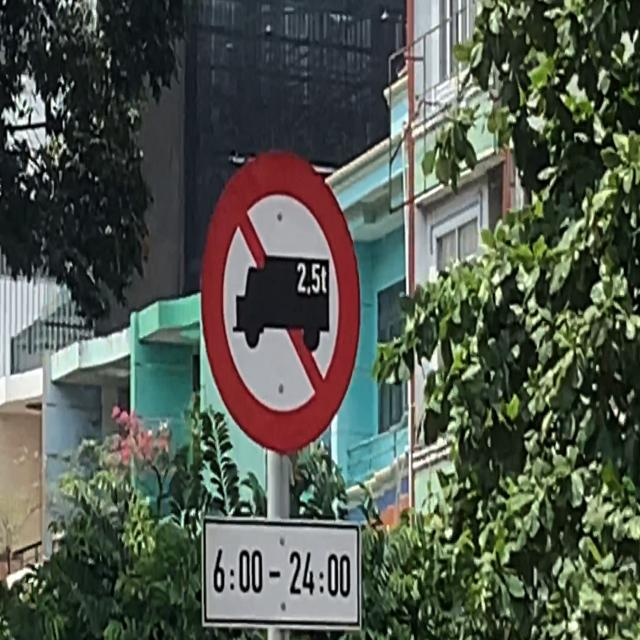Cam con lai: (199, 130, 371, 459)
